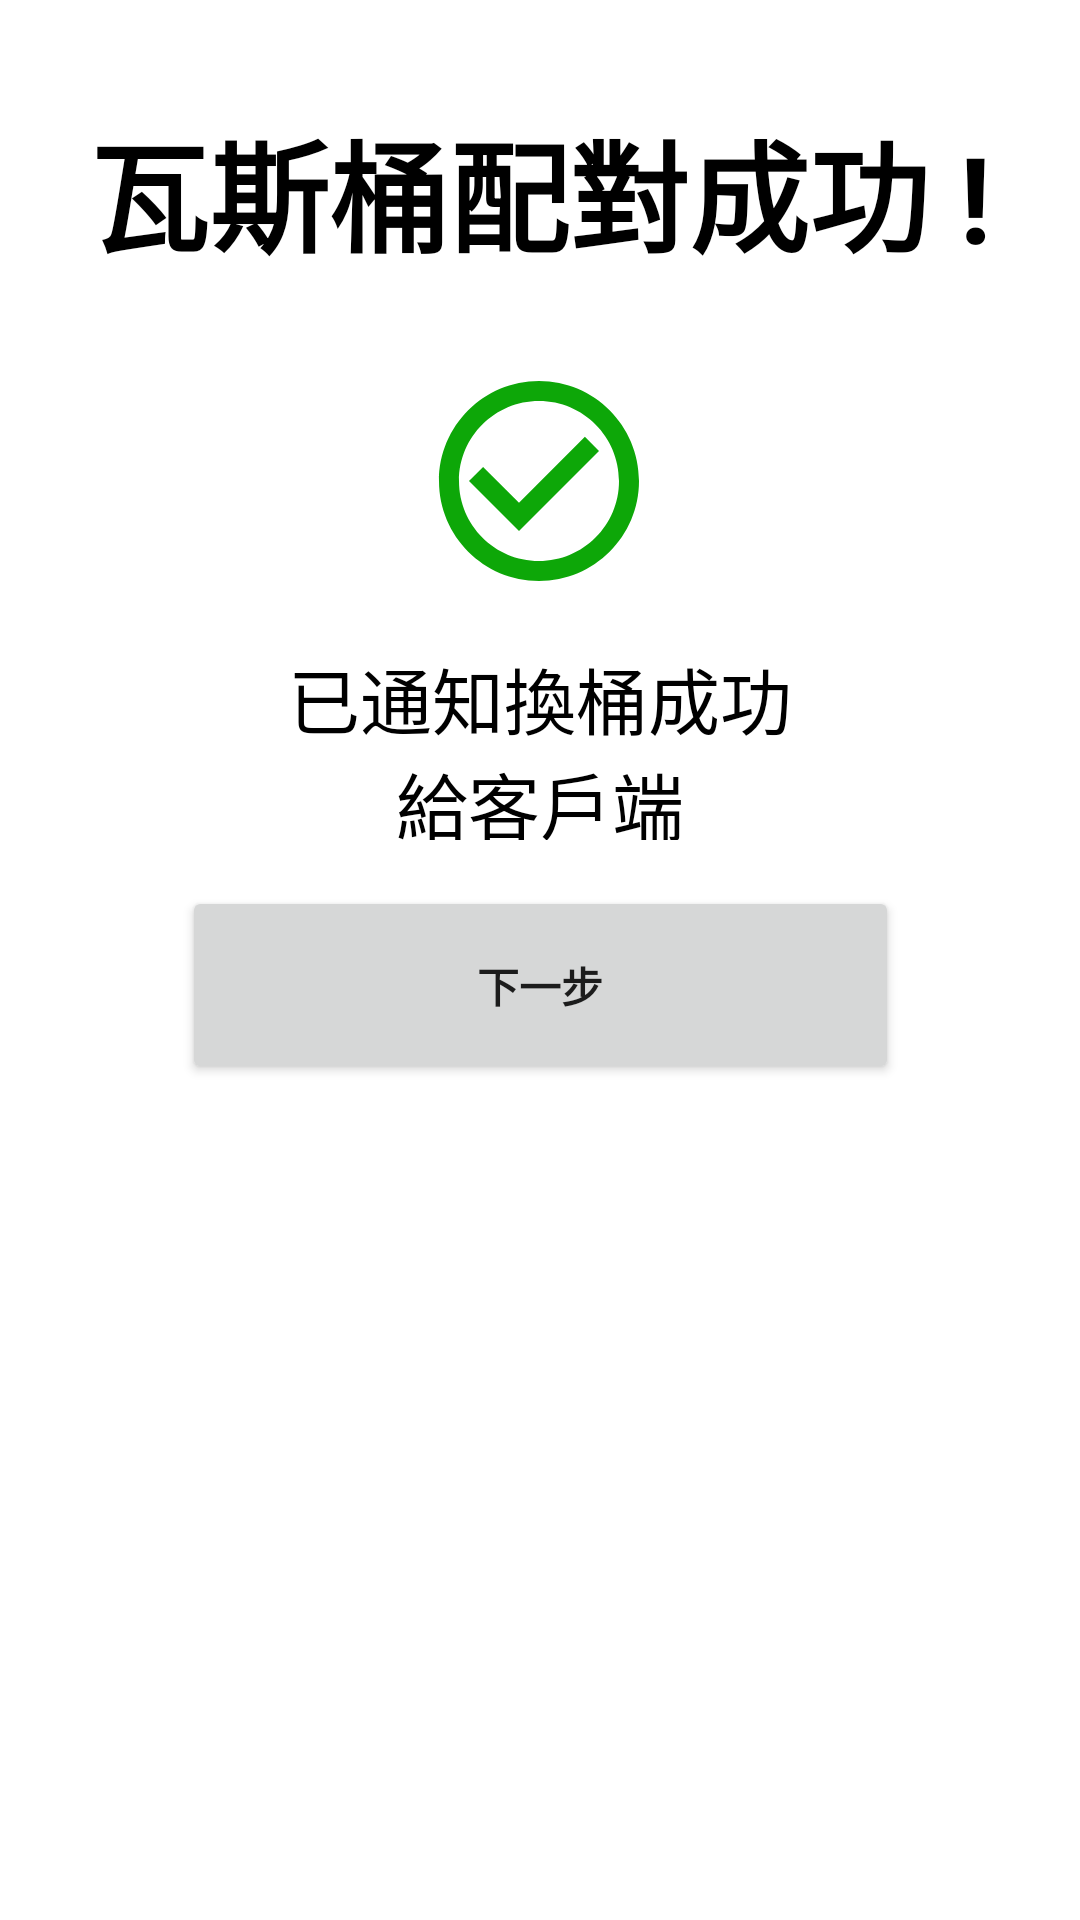

Icon click points for this 1080x1920 phone screenshot, format point (x, y):
check circle: point (538, 481)
